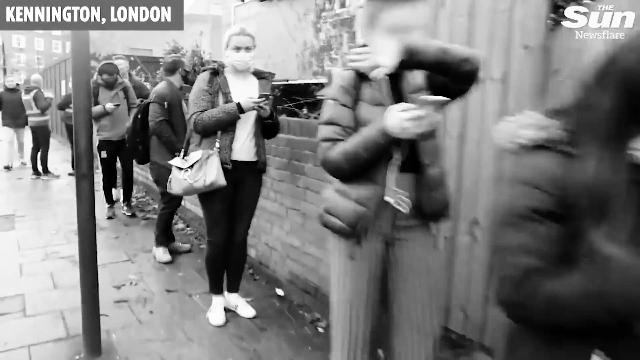berdiri: (321, 4, 483, 360), (178, 27, 284, 330), (84, 58, 140, 222)
